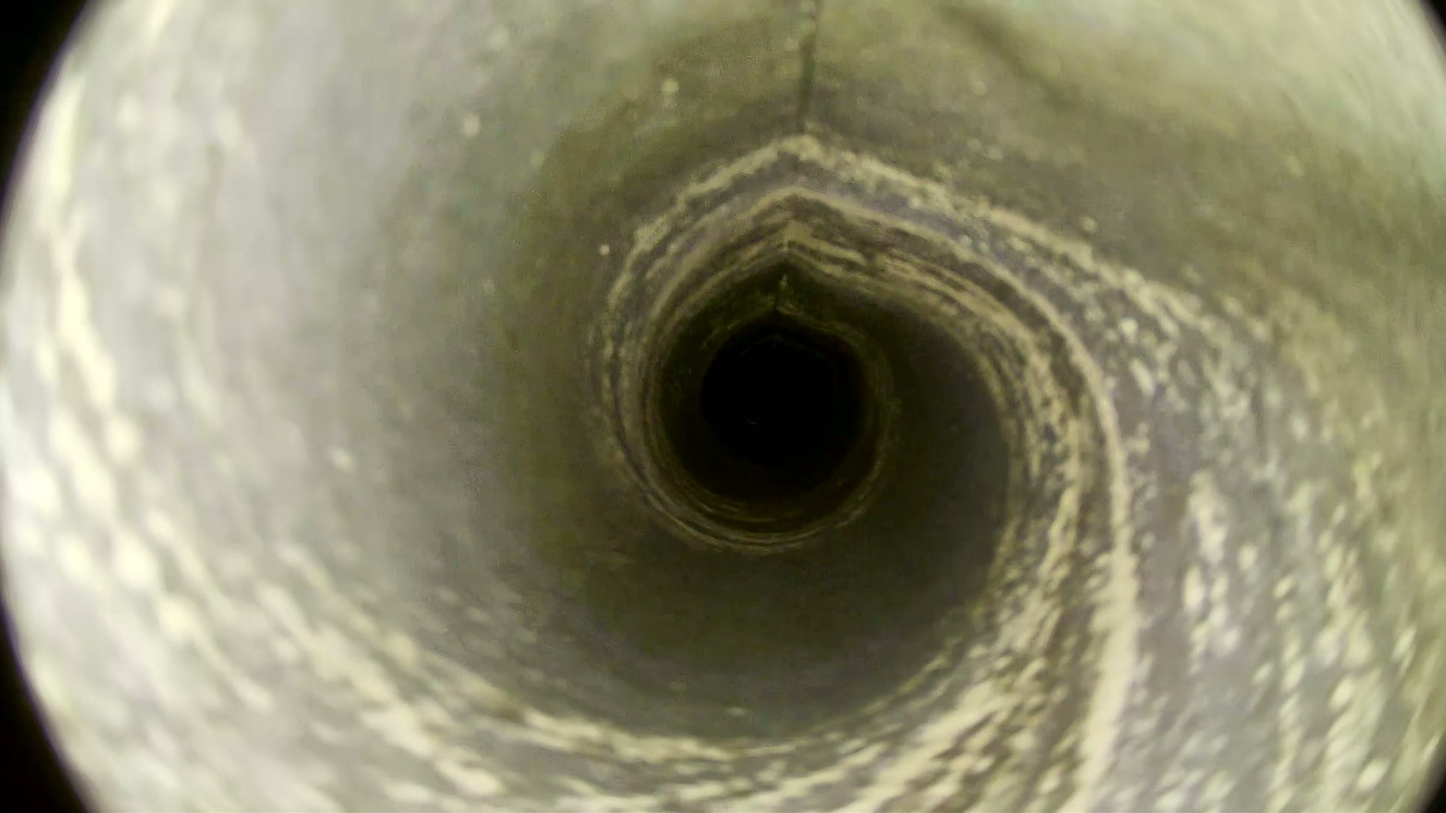hole: (723, 346, 831, 452)
